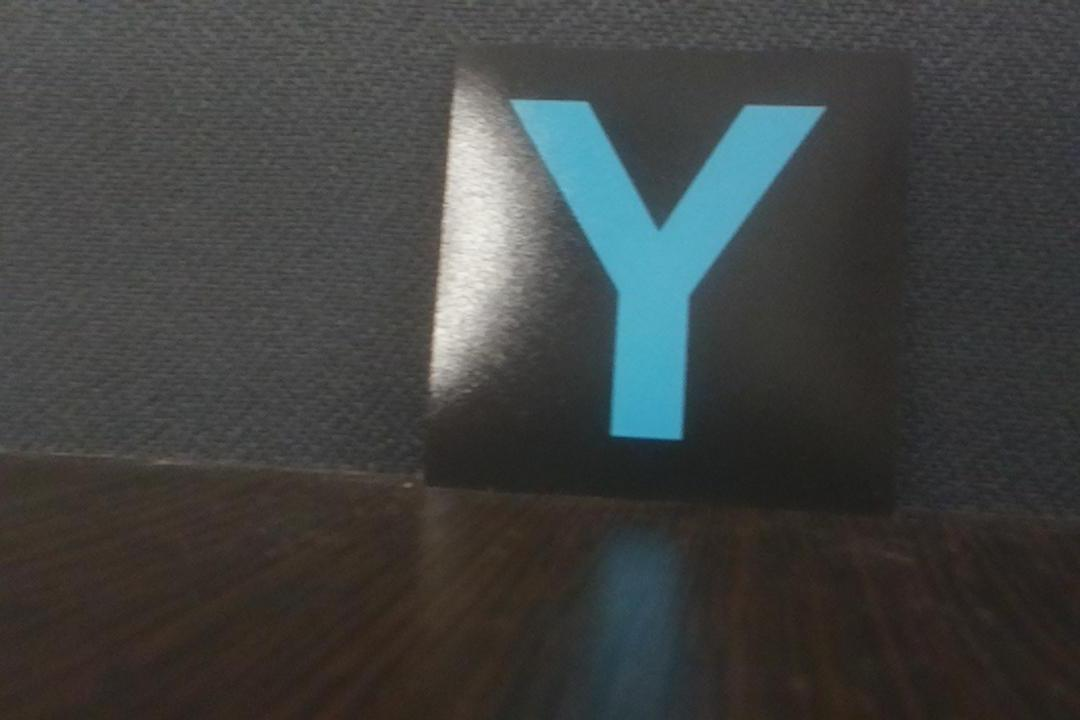alphabet_y: (468, 57, 898, 482)
